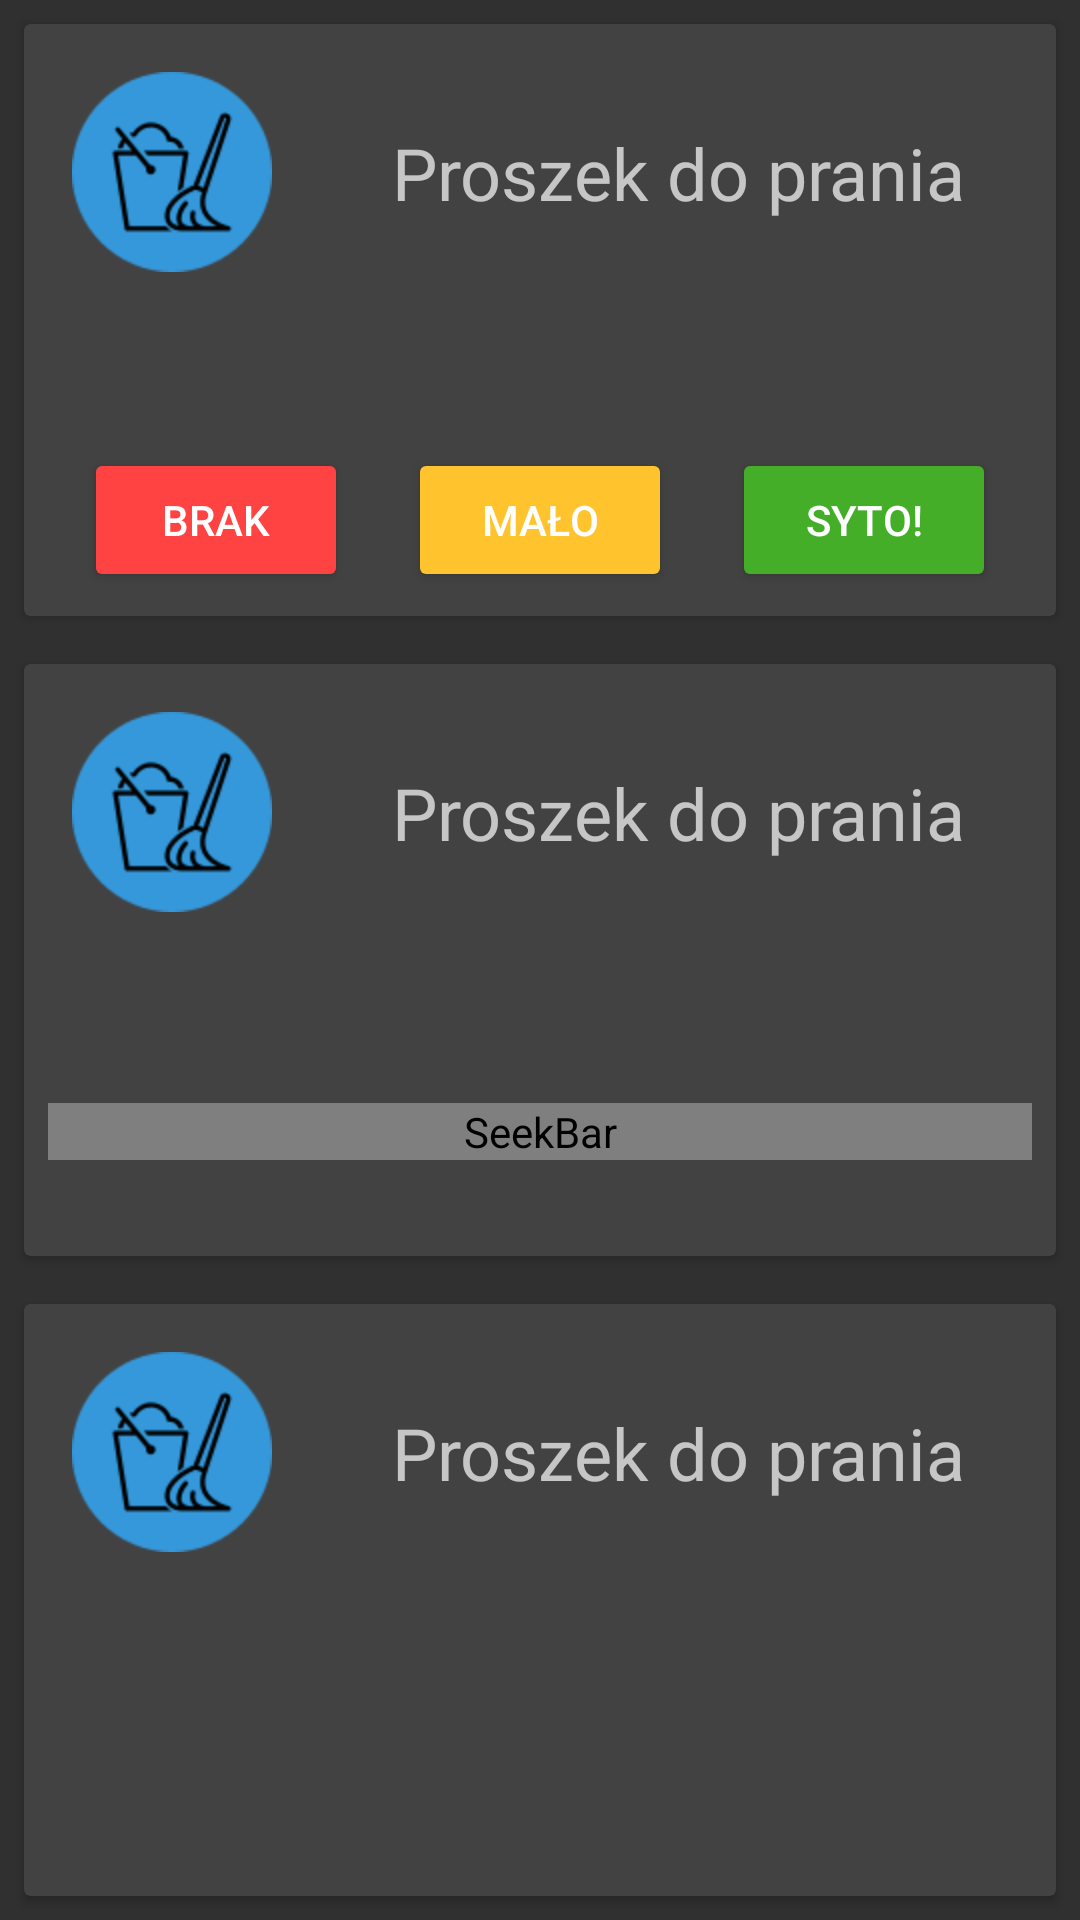

Named icons in this screenshot (1080px x 1920px) and their centers, (x,y):
cleaning: (172,172), (172,812), (172,1452)
